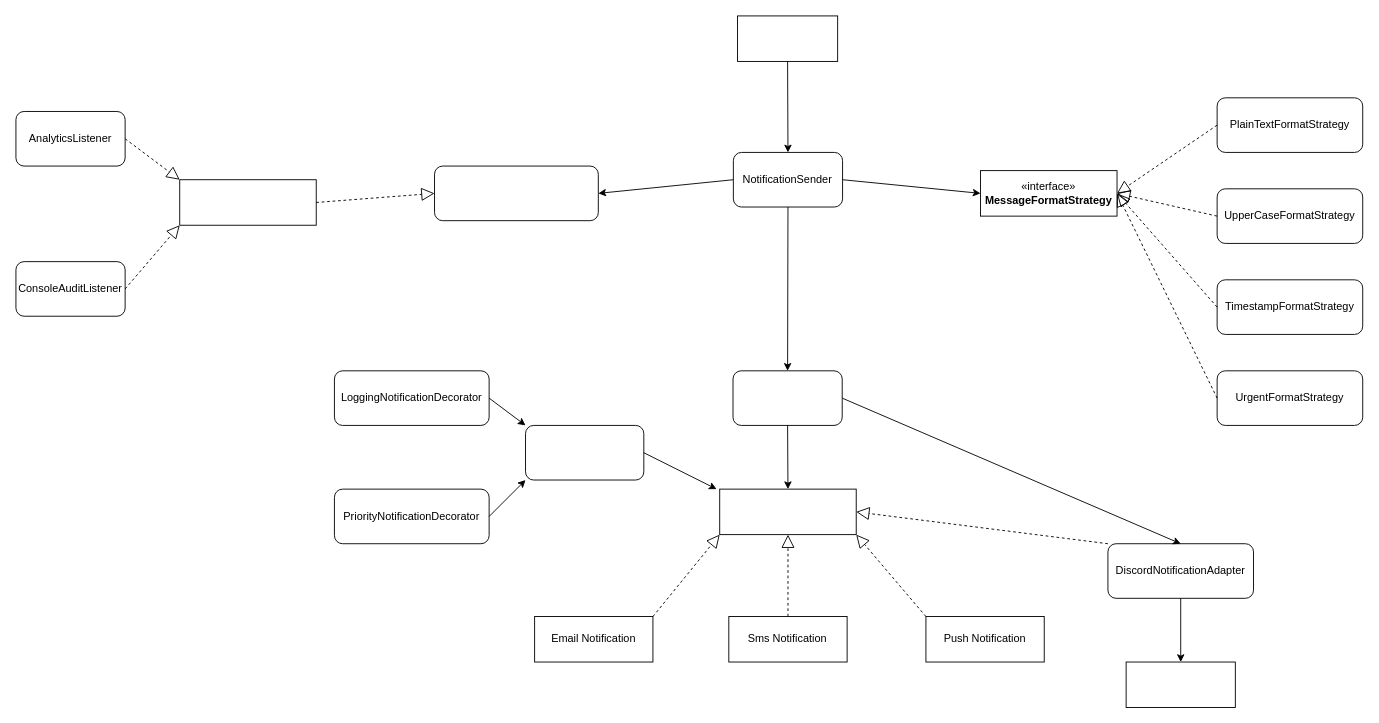
The diagram is 1379 pixels wide and 723 high, and some of its shapes have lost their labels. Each missing label, with the centre of its shape:
"ExternalDiscordApi" goes at (1180,684).
"Main" goes at (787,38).
"Notification Decorator" goes at (584,452).
"NotificationEventPublisher" goes at (516,193).
"NotificationFactory" goes at (787,397).
"«interface» Notification" goes at (787,511).
"«interface» NotificationEventListener" goes at (247,202).
